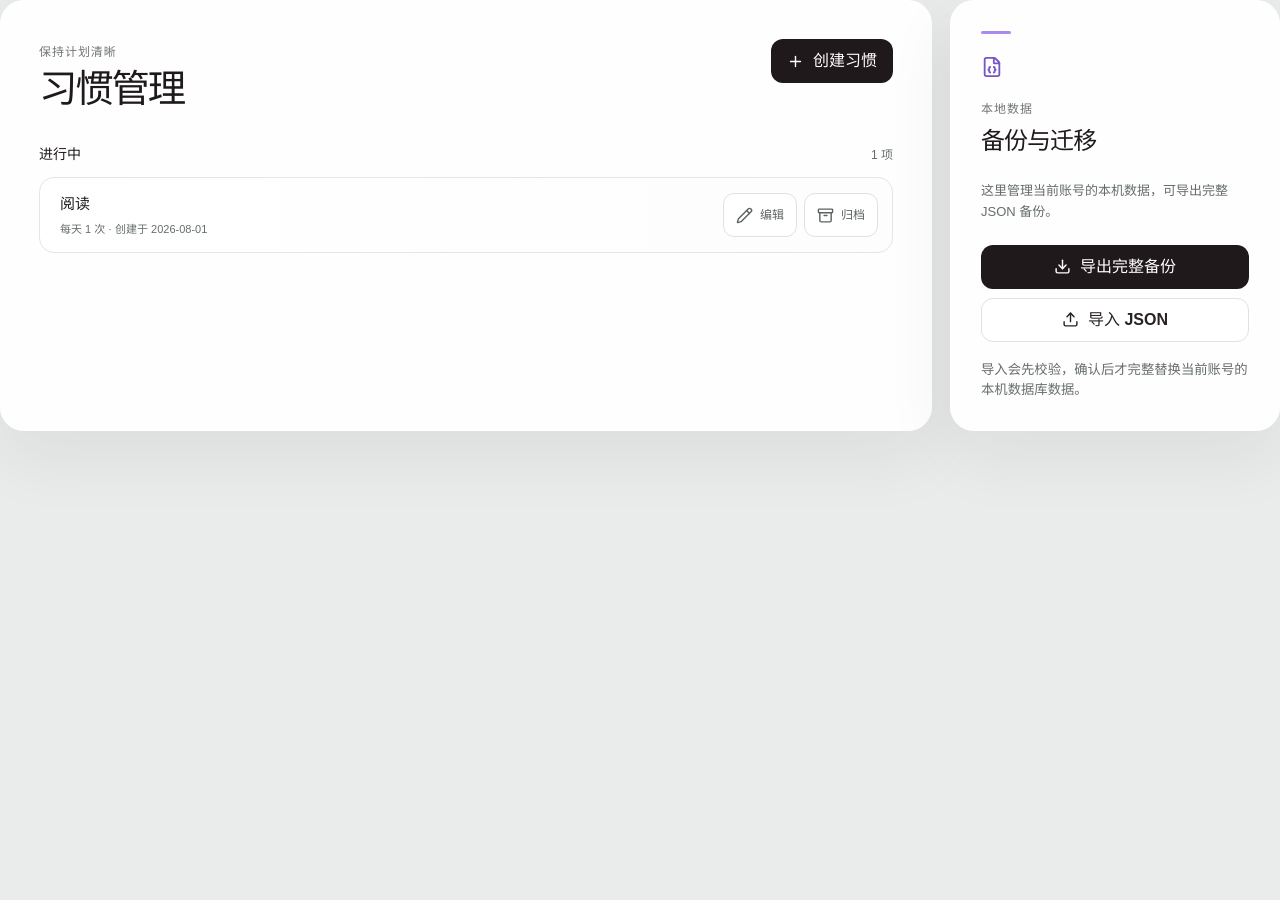
Test case: ManagePage account writes › keeps an archive candidate while its account write is pending or false and closes only after success
The image size is (1280, 900).
Click the button with aria-label "归档阅读" at (841, 215), box 804,193 -> 878,237
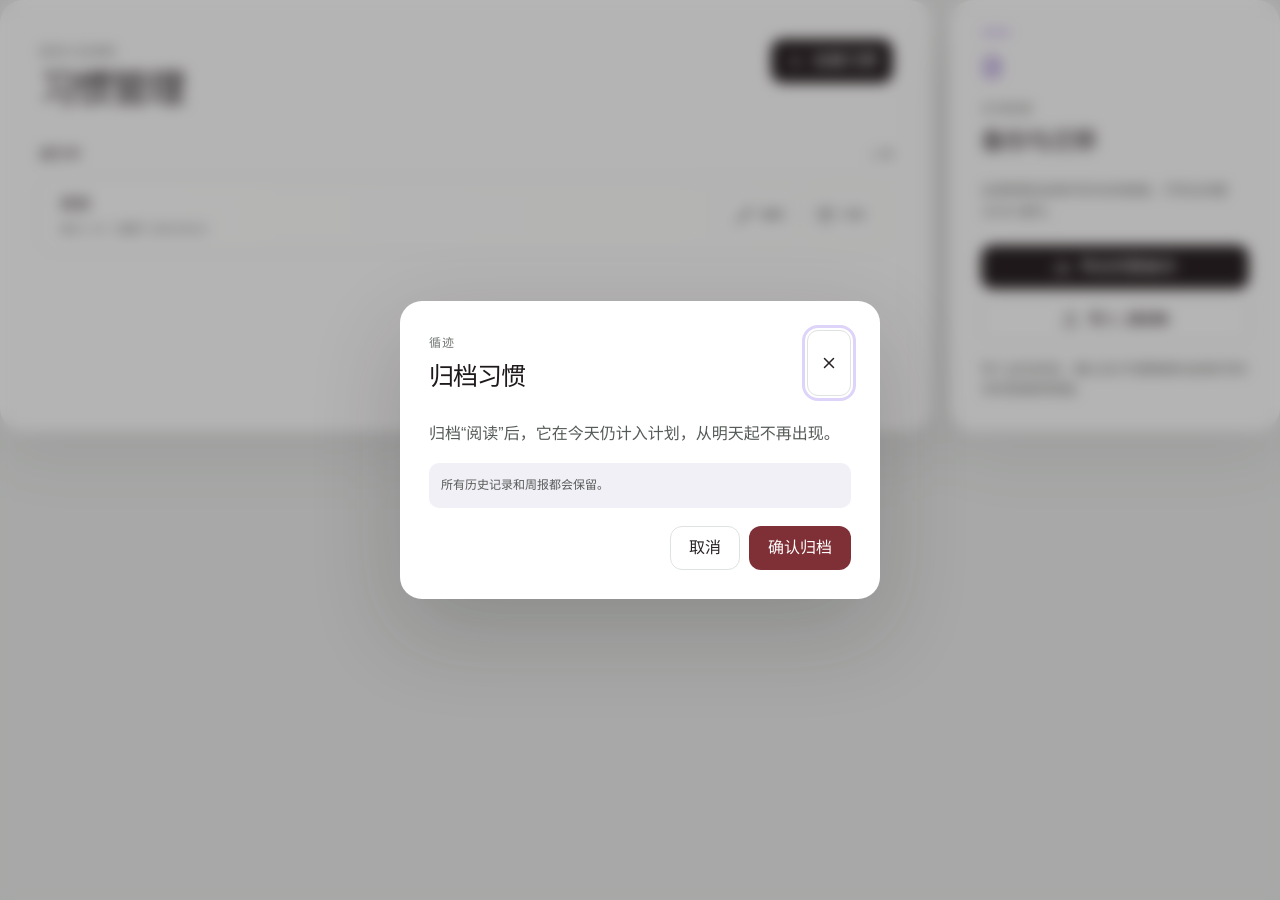
Click the button "确认归档" at (800, 548), box 749,526 -> 851,570
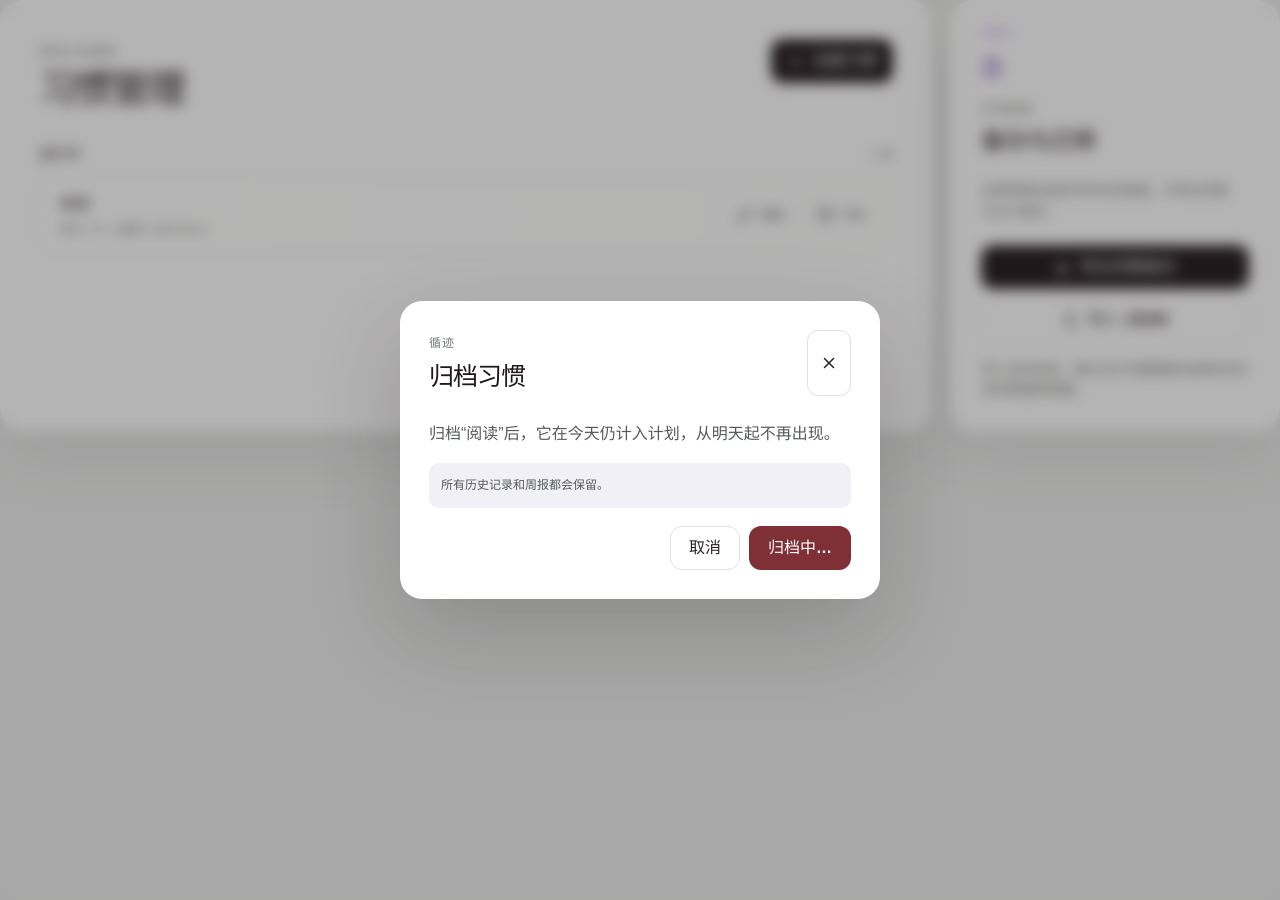
Check: the dialog "归档习惯" is shown, box 400,302 -> 880,599
Check: the button named "确认归档" is disabled
Click the button named "确认归档" at (800, 548), box 749,526 -> 851,570
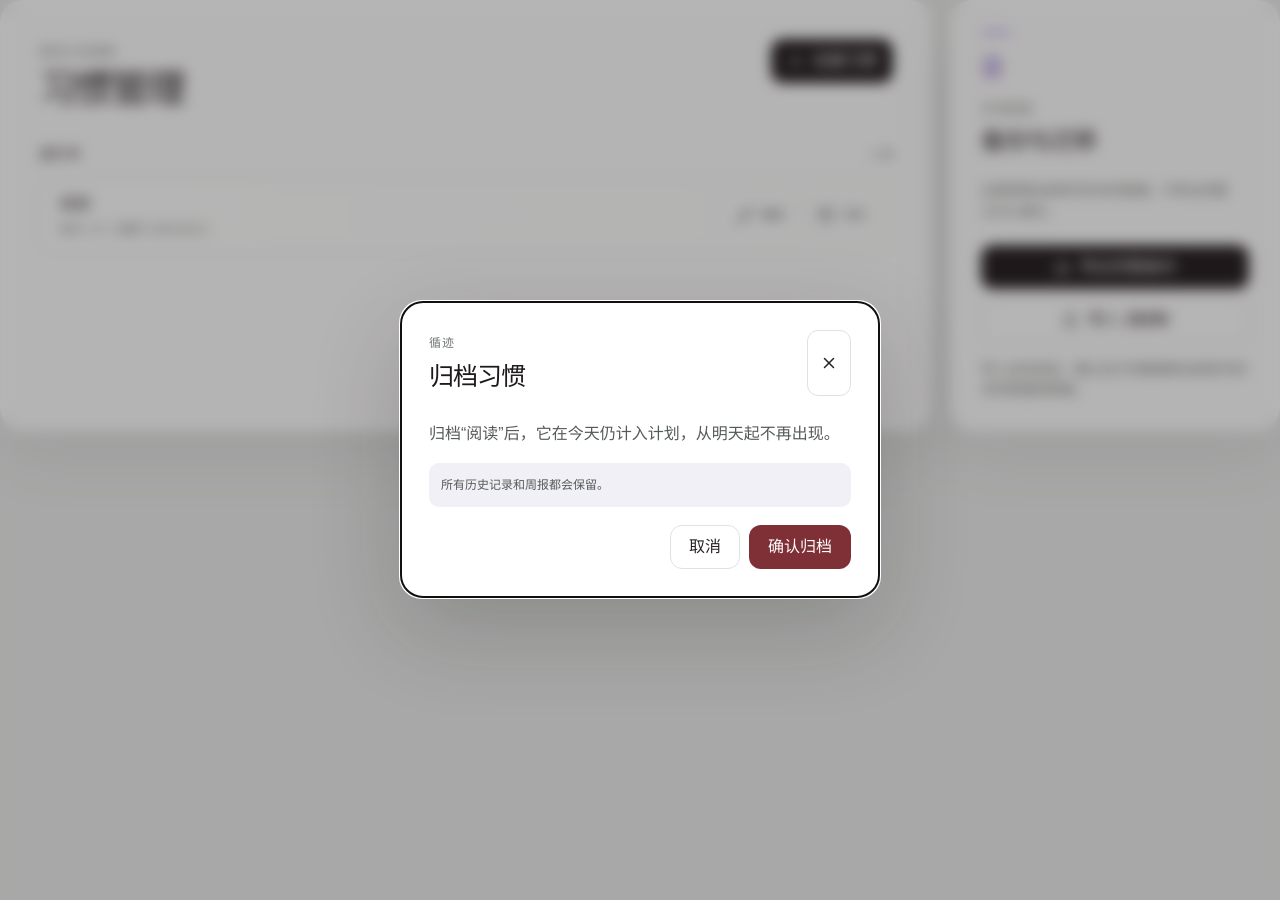
Check: the dialog "归档习惯" is shown, box 400,302 -> 880,599
Click the button "确认归档" at (800, 548), box 749,526 -> 851,570
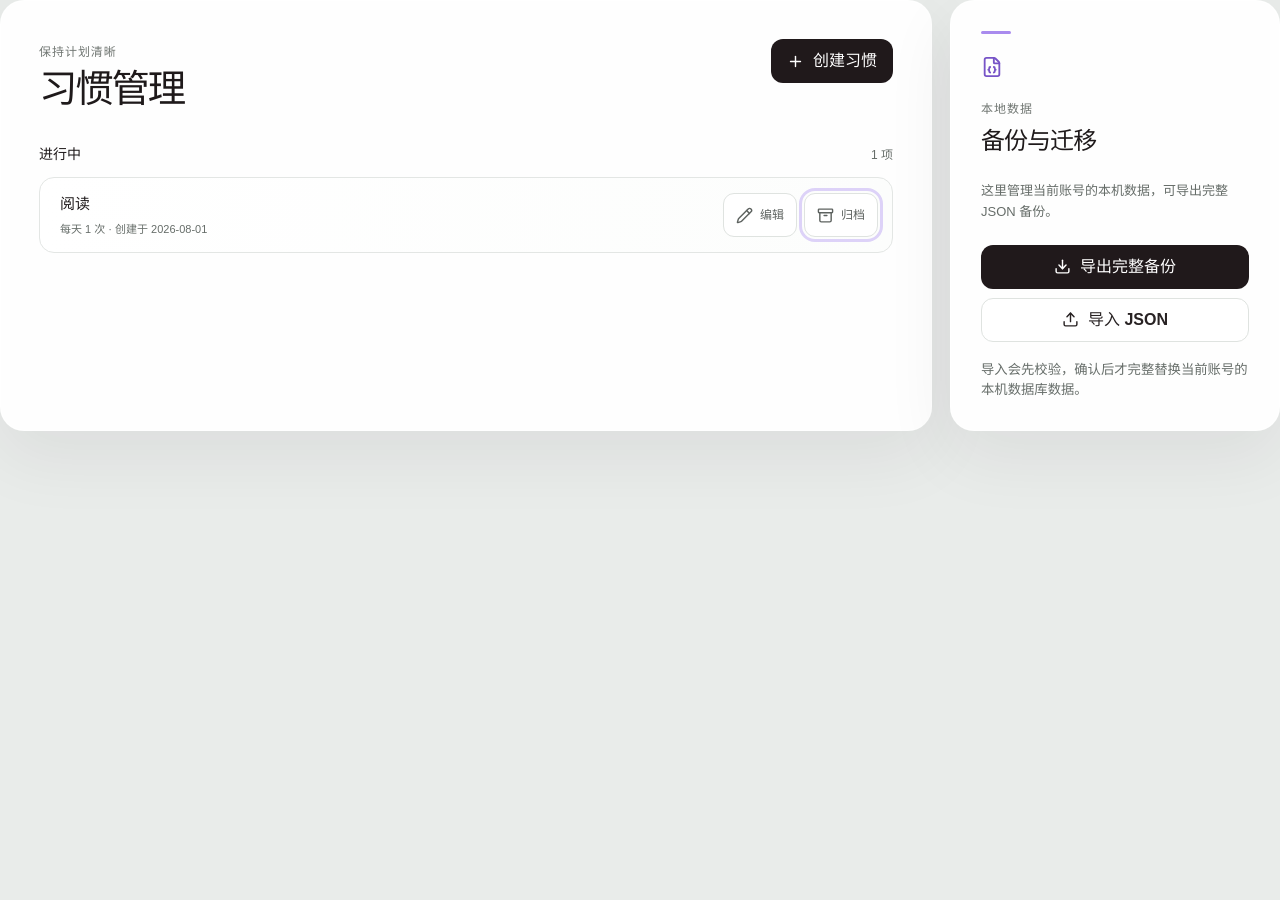
Check: the heading "归档习惯" is gone
